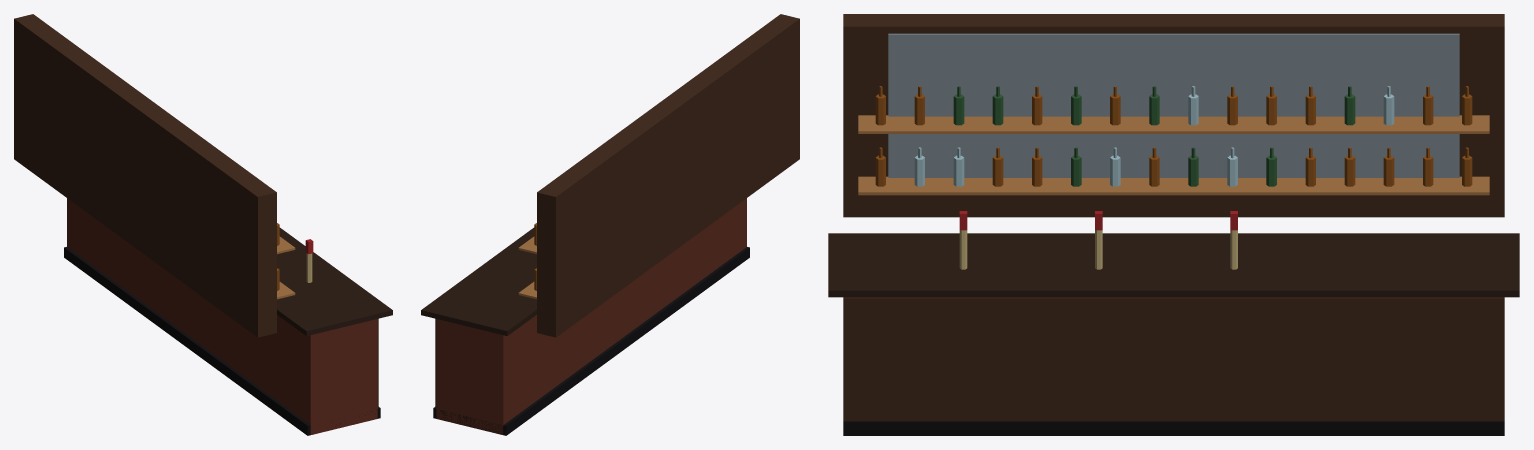
Rendered from Bar.obj.
3 views of the same model, side by side, from view 1: azimuth 30°, elevation 25°; view 2: azimuth 150°, elevation 25°; view 3: azimuth 270°, elevation 25° (orthographic). The views are drawn at different scales.
Visible parts, largest first — view 1: Bar; view 2: Bar; view 3: Bar.
Part boxes in pixels (x1,y1,x2,y2): Bar: (14, 14, 392, 435); Bar: (421, 14, 799, 435); Bar: (828, 14, 1519, 435).
Size of the model in its own units: 1.35 by 2.5 by 4.6.
1 material, 1 textured.
